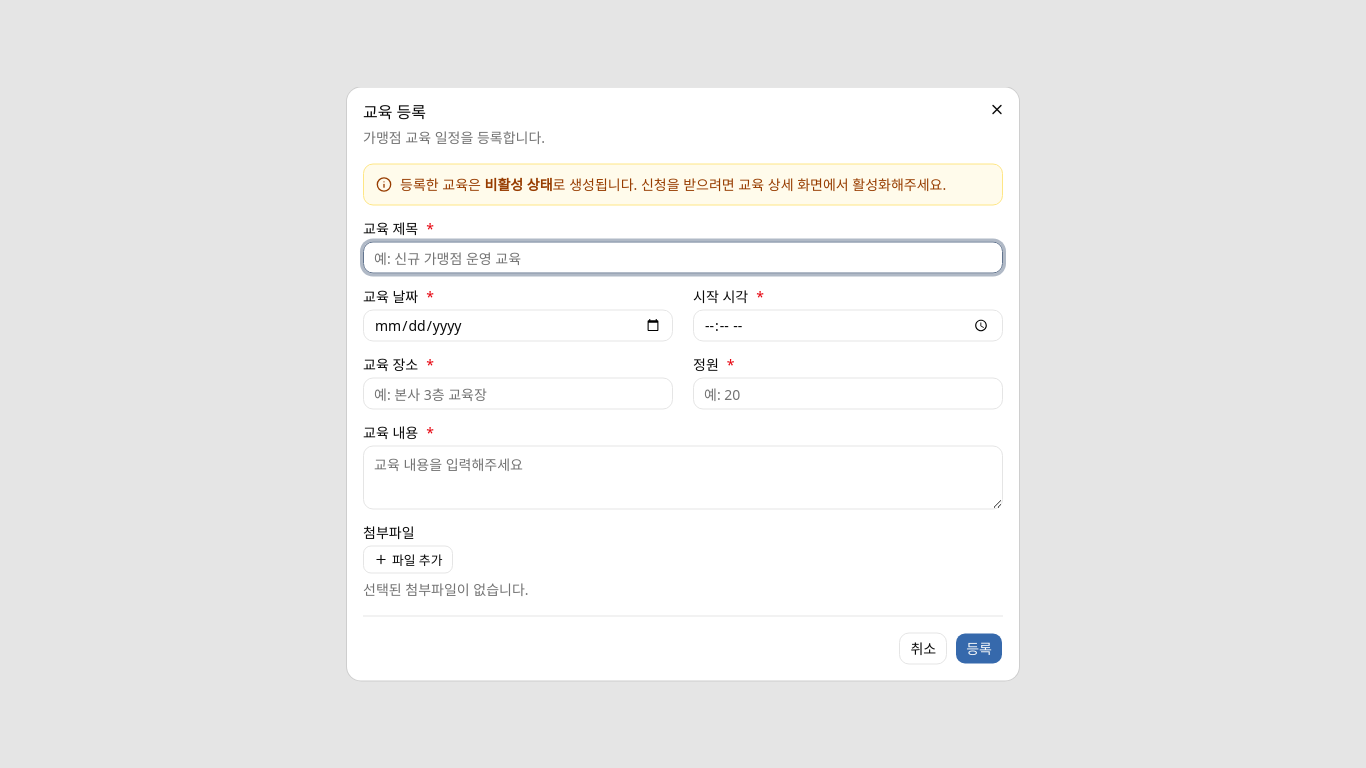
Test: FranchiseEducationCreateDialog › 빈 값 제출 시 zod 클라 사전검증 메시지를 노출하고 요청을 보내지 않는다
This screenshot has width=1366, height=768.
What coordinates should you click on to do the following:
click the button "등록"
I would click on:
 (979, 648)
Its box is [955,632,1003,664].
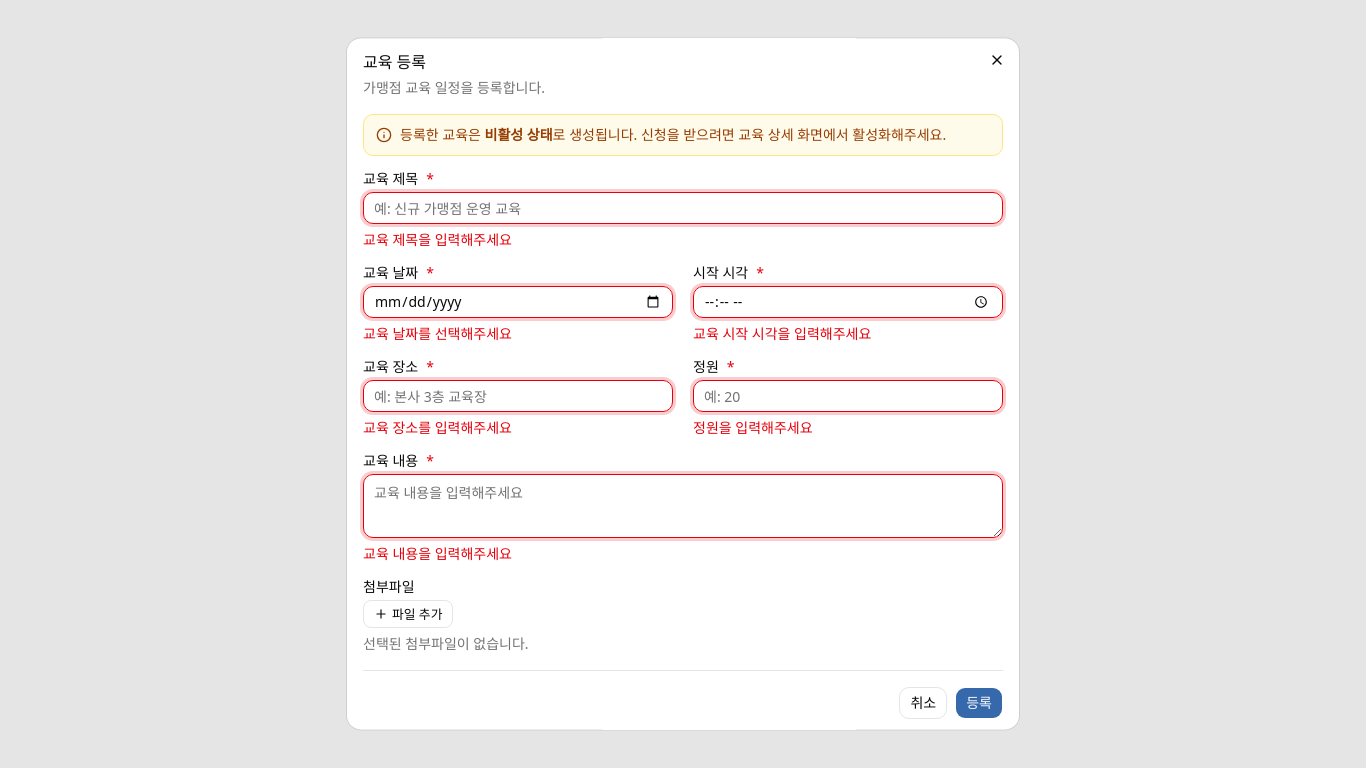
Now the text "교육 날짜를 선택해주세요" is shown, box [363,324,512,343]
Now the text "교육 시작 시각을 입력해주세요" is shown, box [693,324,871,343]
Now the text "교육 장소를 입력해주세요" is shown, box [363,418,512,437]
